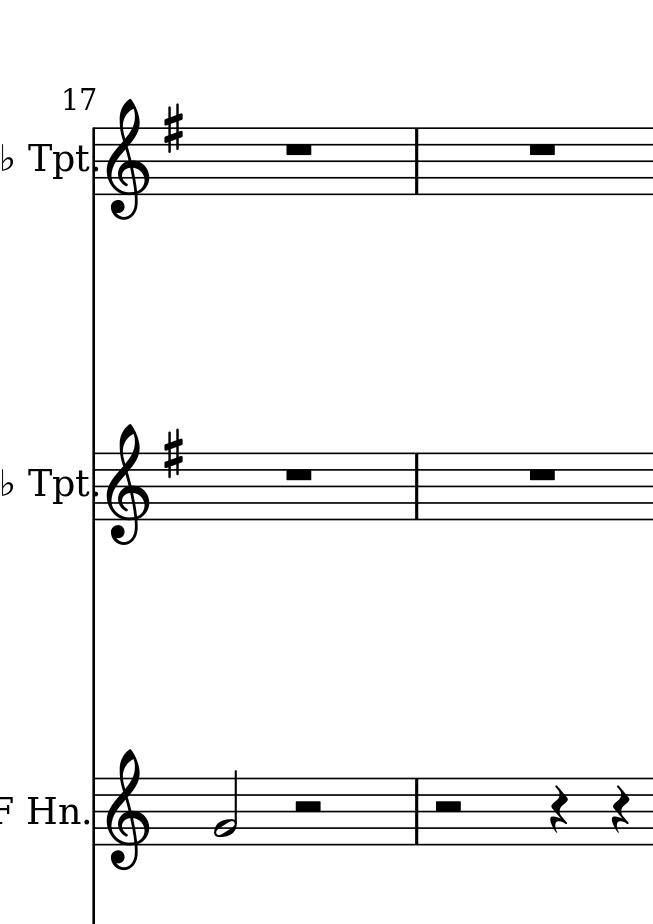1: (63, 84, 79, 115)
7: (79, 84, 97, 115)
Gclef: (103, 97, 152, 225), (105, 420, 153, 545), (106, 745, 148, 876)
Hn: (25, 792, 81, 831)
Rests1: (525, 463, 567, 488), (282, 460, 320, 484), (524, 140, 561, 161), (282, 138, 317, 160)
Rests2: (430, 798, 467, 819), (291, 797, 324, 817)
Rests4: (213, 770, 240, 847), (608, 782, 632, 834), (547, 783, 568, 836)
Sharp: (160, 99, 189, 159), (159, 424, 189, 481)
Single_barline: (408, 777, 426, 842), (409, 126, 425, 194), (409, 451, 425, 518), (88, 453, 102, 520), (88, 128, 102, 195), (88, 778, 101, 845)
Tpt: (25, 137, 86, 183), (22, 462, 88, 504)
